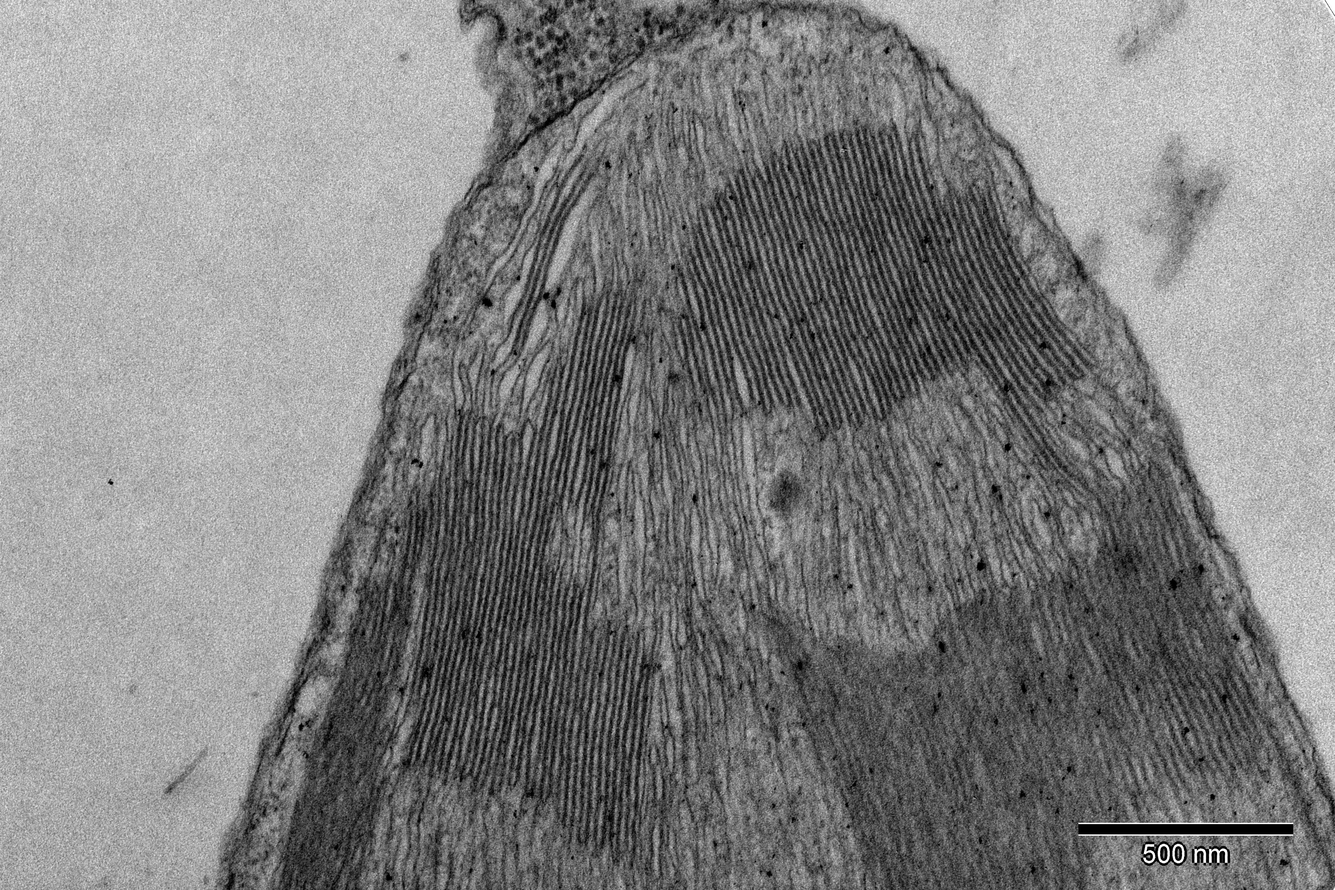granum: (744, 426, 1296, 890), (664, 114, 1102, 497), (393, 576, 660, 875), (261, 552, 424, 890), (427, 278, 648, 518), (387, 475, 600, 609)
